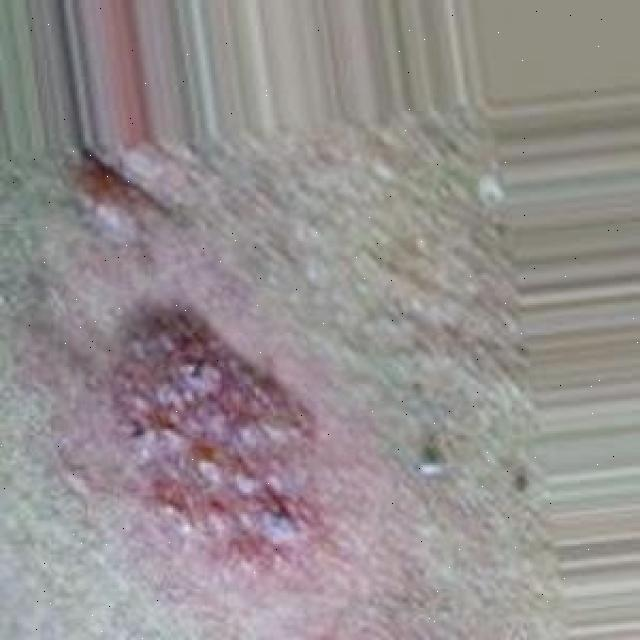Shingles: (114, 308, 318, 578)
